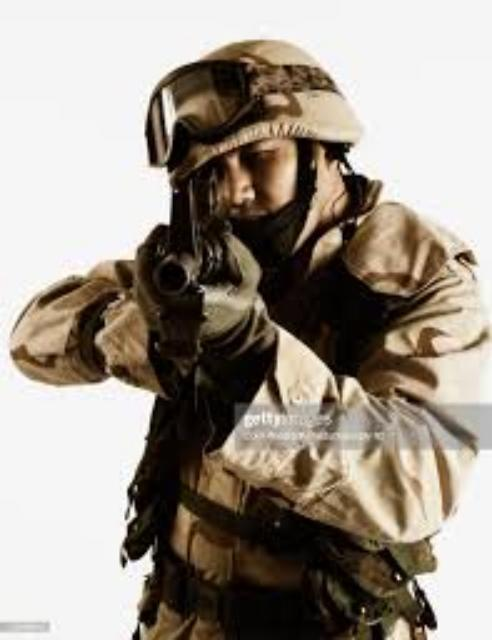other: (13, 37, 487, 638)
